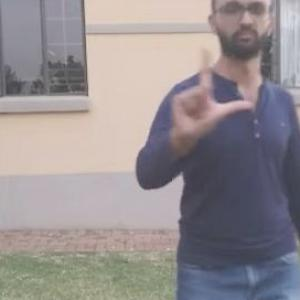land_hand: (165, 40, 256, 148)
